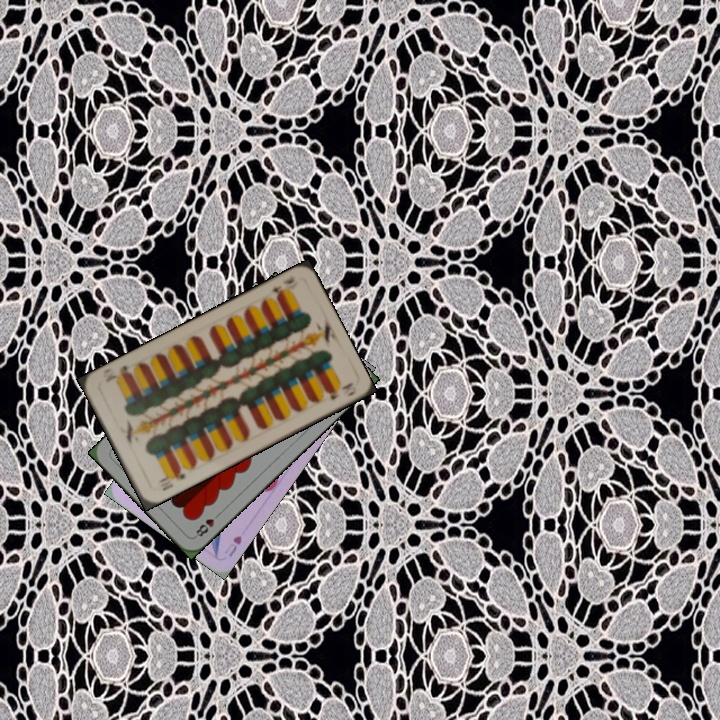E10: (155, 465, 188, 494), (268, 272, 301, 301)
H8: (190, 508, 223, 540)
HU: (220, 531, 244, 559)
